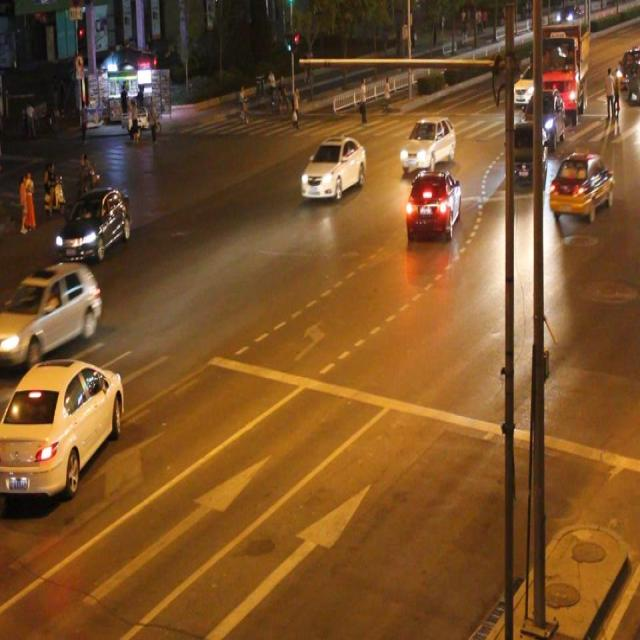car: (0, 356, 124, 494), (1, 263, 100, 368), (57, 188, 131, 258), (301, 135, 364, 203), (404, 167, 462, 240), (550, 151, 611, 219), (399, 116, 454, 172), (506, 120, 546, 188)
